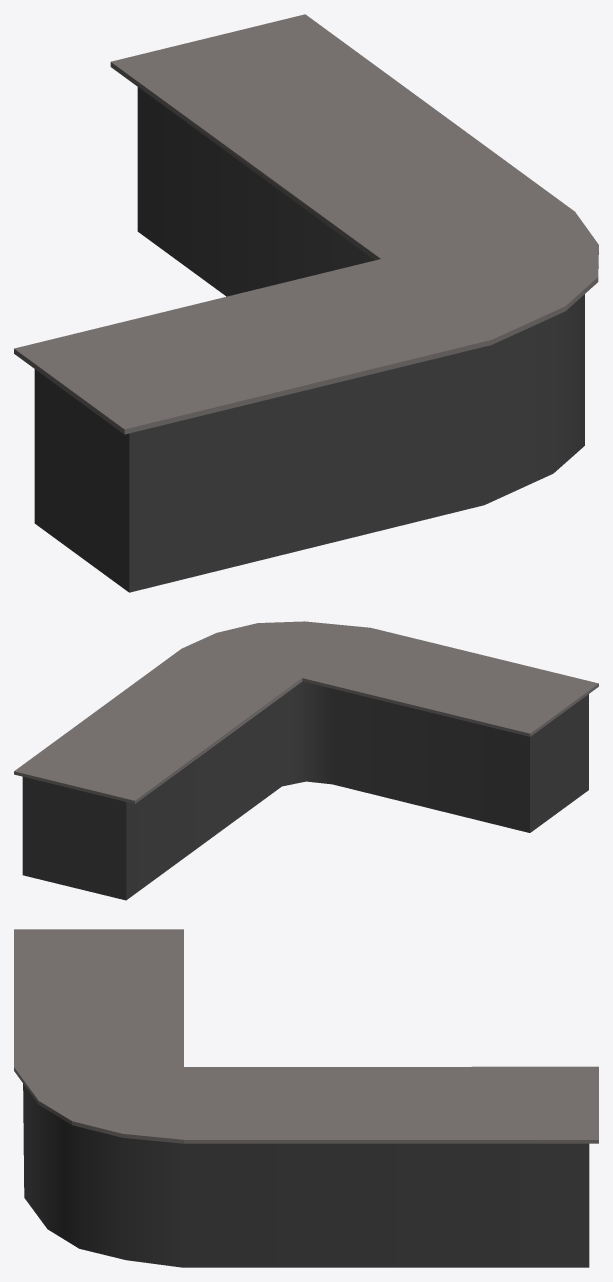
The model's file is SM_Table_04.FBX.
3 renders of one model, top to bottom at view 1: azimuth 30°, elevation 25°; view 2: azimuth 150°, elevation 25°; view 3: azimuth 270°, elevation 25°, orthographic. The views are drawn at different scales.
Visible parts, largest first — view 1: SM_Table_04; view 2: SM_Table_04; view 3: SM_Table_04.
Part boxes in pixels (x1,y1,x2,y2): SM_Table_04: (14, 14, 598, 592); SM_Table_04: (14, 621, 598, 900); SM_Table_04: (14, 929, 598, 1267).
Bounding box in the file's own units: 318 × 373 × 92.04.
